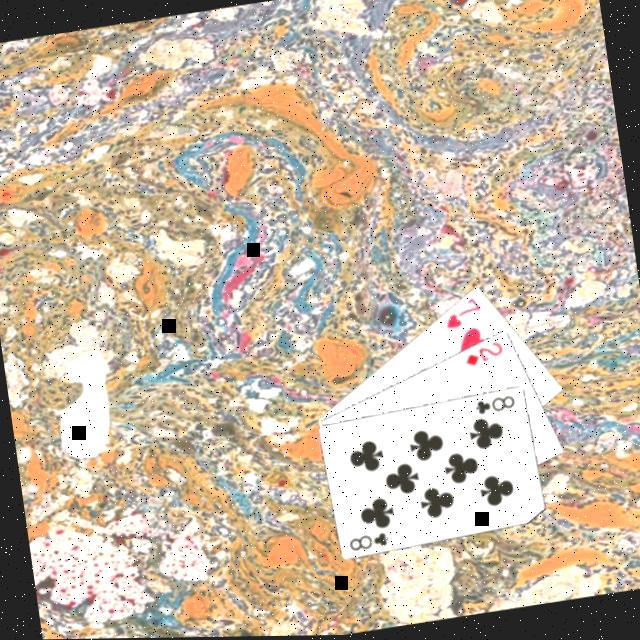2D: (458, 338, 505, 370)
7H: (436, 292, 484, 332)
8C: (343, 526, 390, 554), (469, 391, 516, 418)
